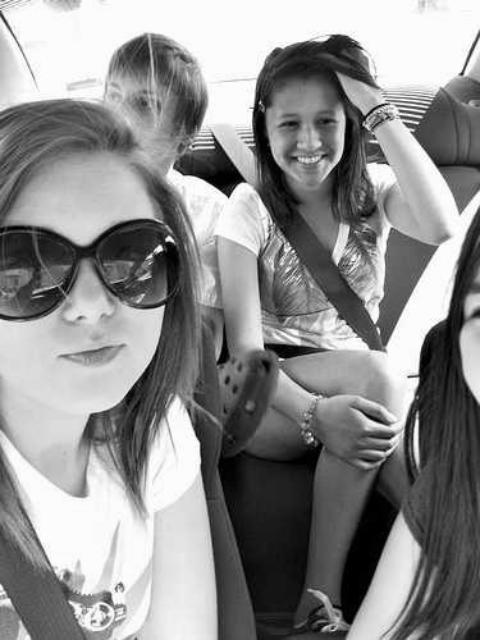SafeDriving: (130, 92, 158, 114), (273, 114, 304, 132), (314, 112, 340, 132)
Seatbelt: (202, 117, 394, 360), (0, 446, 94, 640)
